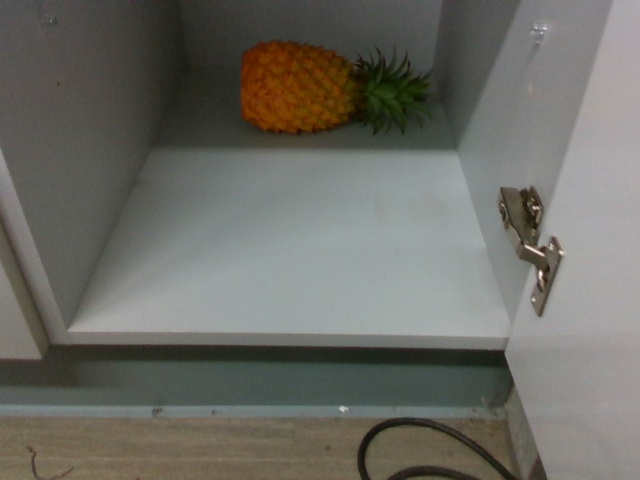pineapple: (236, 34, 450, 139)
